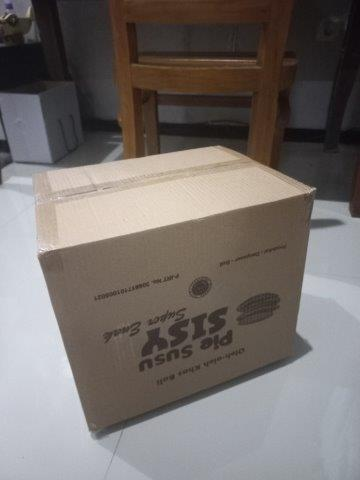kardus: (35, 144, 315, 434)
